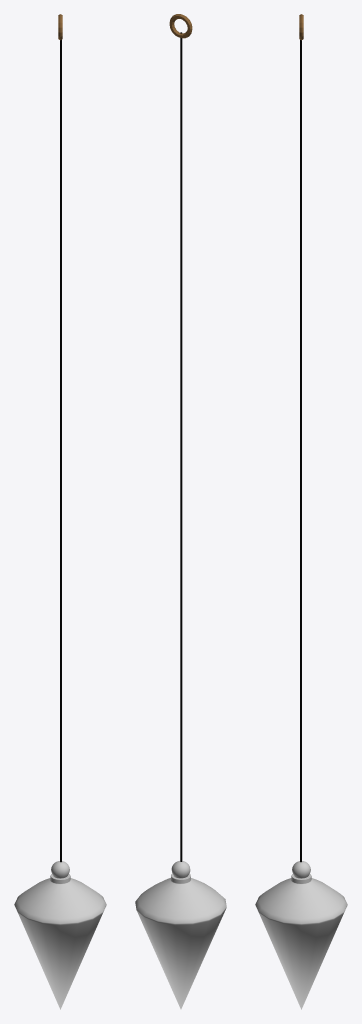
The model's file is Plumb Line.fbx.
The picture shows the model from 3 angles, left to right: view 1: azimuth 90°, elevation 25°; view 2: azimuth 150°, elevation 25°; view 3: azimuth 270°, elevation 25°; orthographic projection.
Parts seen in each view (by area): view 1: Plumb, String; view 2: Plumb, String, Ring; view 3: Plumb, String.
Boxes of the visible parts, x1,y1,x2,y2 form: Plumb: (14, 861, 106, 1009); String: (60, 40, 61, 862); Plumb: (135, 861, 226, 1009); String: (180, 32, 182, 861); Ring: (169, 14, 192, 38); Plumb: (255, 861, 347, 1009); String: (300, 40, 301, 862).
Bounding box in the file's own units: 8.03 × 95.59 × 8.03.
